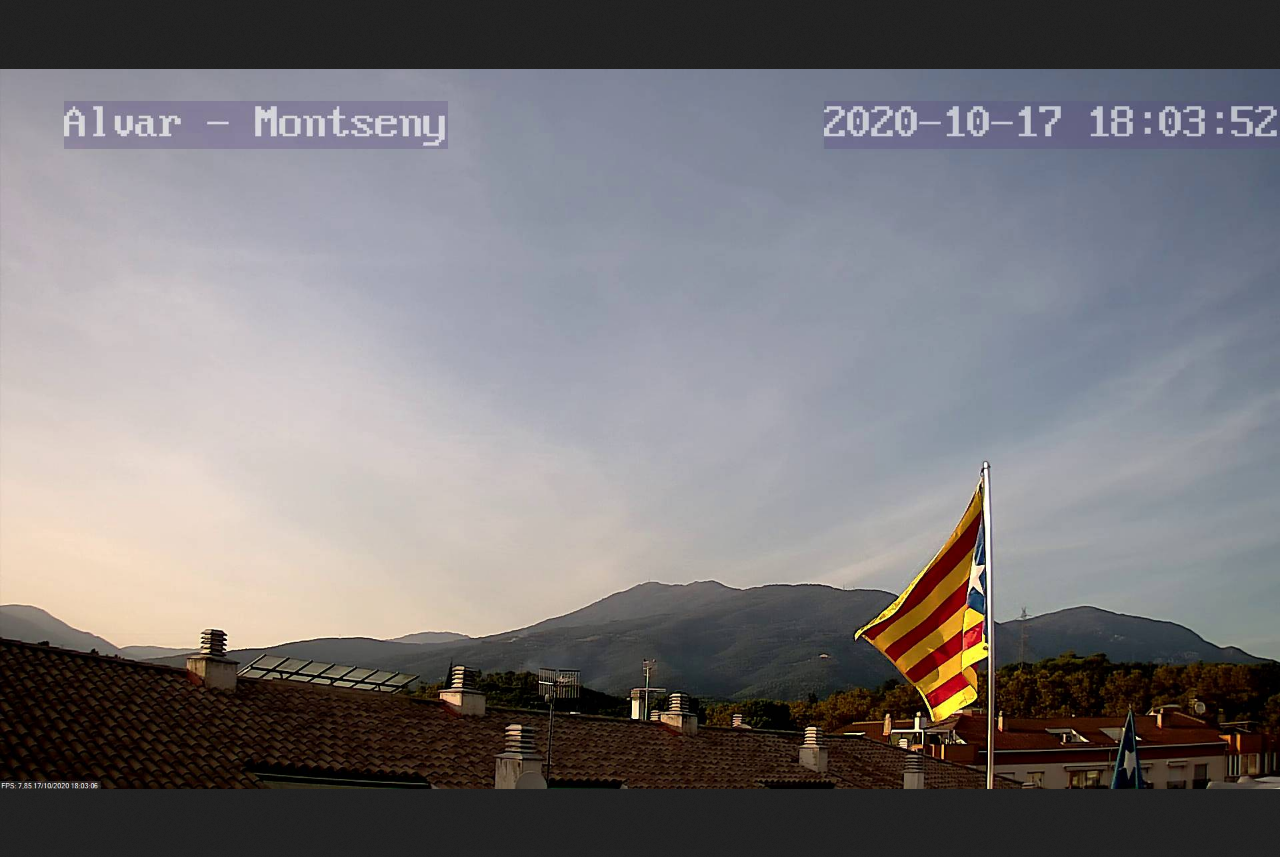maybe: (848, 481, 994, 722)
